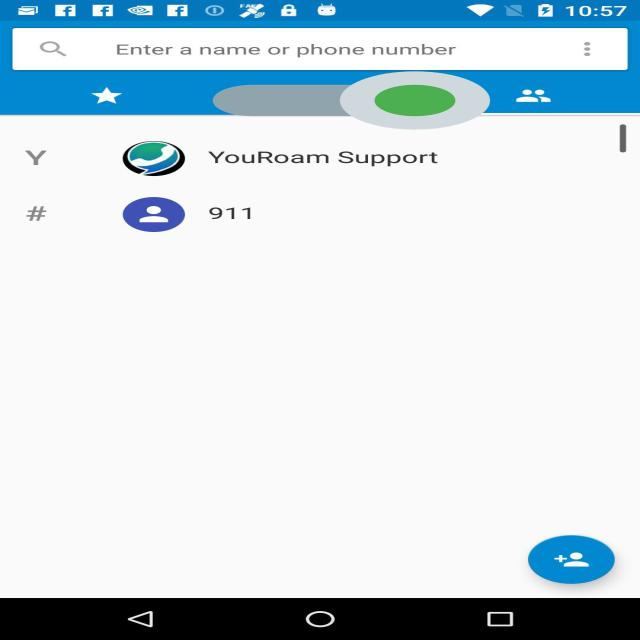social proof: (213, 47, 490, 154)
